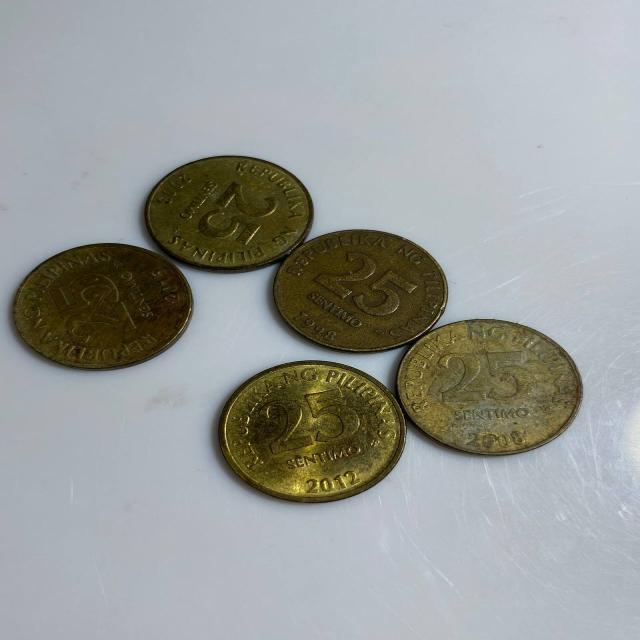25Cent_Old_Front: (312, 248, 420, 326), (41, 271, 148, 344), (252, 388, 353, 450), (193, 183, 279, 252), (441, 349, 539, 405)
